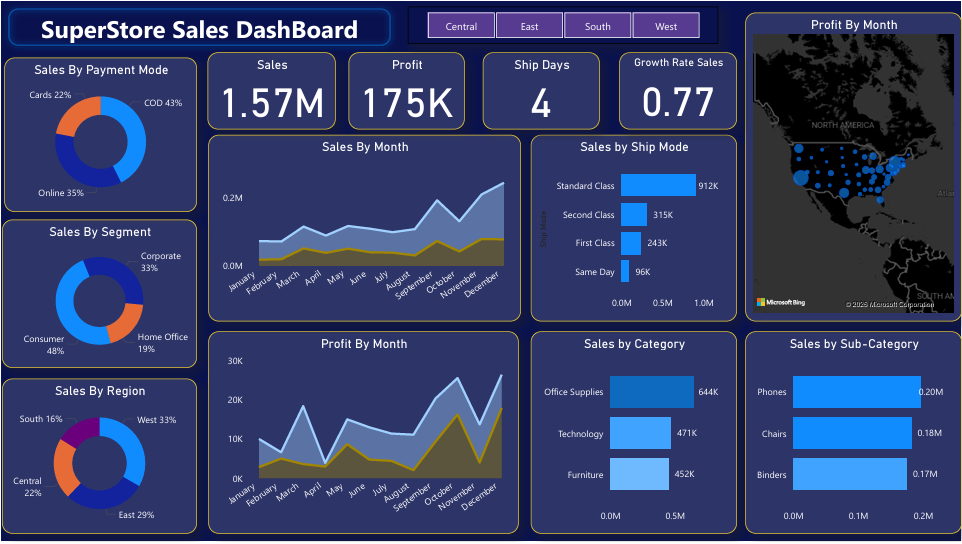

The page's visual inventory and layout, read from the dashboard file:
{"tool":"powerbi","page":{"name":"Dashboard","canvas":[1280,720],"ordinal":0},"visuals":[{"type":"barChart","title":" Sales by Category","fields":{"Category":["SuperStore_Sales_Dataset.Category"],"Y":["Sum(SuperStore_Sales_Dataset.Sales)"]},"box":[705.1,439.1,274.6,270.3],"z":0},{"type":"barChart","title":" Sales by Ship Mode","fields":{"Y":["Sum(SuperStore_Sales_Dataset.Sales)"],"Category":["SuperStore_Sales_Dataset.Ship Mode"]},"box":[705.1,177.3,274.6,248.8],"z":1000},{"type":"barChart","title":" Sales by Sub-Category","fields":{"Y":["Sum(SuperStore_Sales_Dataset.Sales)"],"Category":["SuperStore_Sales_Dataset.Sub-Category"]},"box":[991.1,439.1,288.9,270.3],"z":2000},{"type":"donutChart","title":"Sales By Payment Mode","fields":{"Category":["SuperStore_Sales_Dataset.Payment Mode"],"Y":["Sum(SuperStore_Sales_Dataset.Sales)"]},"box":[2.9,74.4,257.4,205.9],"z":3000},{"type":"stackedAreaChart","title":"Profit By Month","fields":{"Category":["SuperStore_Sales_Dataset.Order Date.Variation.Date Hierarchy.Month","SuperStore_Sales_Dataset.Order Date.Variation.Date Hierarchy.Day"],"Series":["SuperStore_Sales_Dataset.Order Date.Variation.Date Hierarchy.Year"],"Y":["Sum(SuperStore_Sales_Dataset.Profit)"]},"box":[274.6,439.1,414.7,270.3],"z":4000},{"type":"map","title":"Profit By Month","fields":{"Size":["Sum(SuperStore_Sales_Dataset.Sales)"],"Category":["SuperStore_Sales_Dataset.State"]},"box":[991.1,14.3,288.9,411.9],"z":5000},{"type":"card","title":"Sales","fields":{"Values":["Sum(SuperStore_Sales_Dataset.Sales)"]},"box":[273.9,66.7,171,102.9],"z":6000},{"type":"card","title":"Ship Days","fields":{"Values":["Avg(SuperStore_Sales_Dataset.AVG Delivery)"]},"box":[640.6,66.7,156.5,102.9],"z":7000},{"type":"card","title":"Profit","fields":{"Values":["Sum(SuperStore_Sales_Dataset.Profit)"]},"box":[462.3,66.7,155.1,102.9],"z":8000},{"type":"card","title":"Growth Rate Sales","fields":{"Values":["SuperStore_Sales_Dataset.Growth Rate"]},"box":[823.2,66.7,156.5,102.9],"z":9000},{"type":"stackedAreaChart","title":"Sales By Month","fields":{"Y":["Sum(SuperStore_Sales_Dataset.Sales)"],"Category":["SuperStore_Sales_Dataset.Order Date.Variation.Date Hierarchy.Month","SuperStore_Sales_Dataset.Order Date.Variation.Date Hierarchy.Day"],"Series":["SuperStore_Sales_Dataset.Order Date.Variation.Date Hierarchy.Year"]},"box":[274.6,177.3,417.6,248.8],"z":10000},{"type":"donutChart","title":"Sales By Region","fields":{"Category":["SuperStore_Sales_Dataset.Region"],"Y":["Sum(SuperStore_Sales_Dataset.Sales)"]},"box":[0,502,260.3,207.4],"z":11000},{"type":"donutChart","title":"Sales By Segment","fields":{"Category":["SuperStore_Sales_Dataset.Segment"],"Y":["Sum(SuperStore_Sales_Dataset.Sales)"]},"box":[0,290.3,260.3,197.4],"z":12000},{"type":"shape","box":[0,0,527.2,66.6],"z":13000},{"type":"slicer","fields":{"Values":["SuperStore_Sales_Dataset.Region"]},"box":[540.6,5.7,414.7,50.1],"z":14000}]}

Visuals, with their boxes in screenshot pixels (x1, y1, x2, y2), scaled from the page's 1280x720 canvas onto the 962x544 screenshot:
" Sales by Category" barChart: (530, 332, 736, 536)
" Sales by Ship Mode" barChart: (530, 134, 736, 322)
" Sales by Sub-Category" barChart: (745, 332, 961, 536)
"Sales By Payment Mode" donutChart: (2, 56, 196, 212)
"Profit By Month" stackedAreaChart: (206, 332, 518, 536)
"Profit By Month" map: (745, 11, 961, 322)
"Sales" card: (206, 50, 334, 128)
"Ship Days" card: (481, 50, 599, 128)
"Profit" card: (347, 50, 464, 128)
"Growth Rate Sales" card: (619, 50, 736, 128)
"Sales By Month" stackedAreaChart: (206, 134, 520, 322)
"Sales By Region" donutChart: (0, 379, 196, 536)
"Sales By Segment" donutChart: (0, 219, 196, 368)
shape: (0, 0, 396, 50)
slicer - SuperStore_Sales_Dataset.Region: (406, 4, 718, 42)
